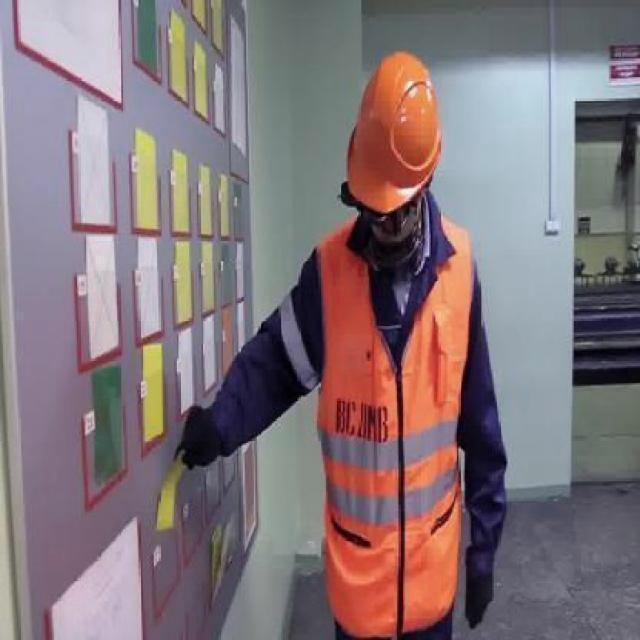vest: (311, 220, 472, 640)
